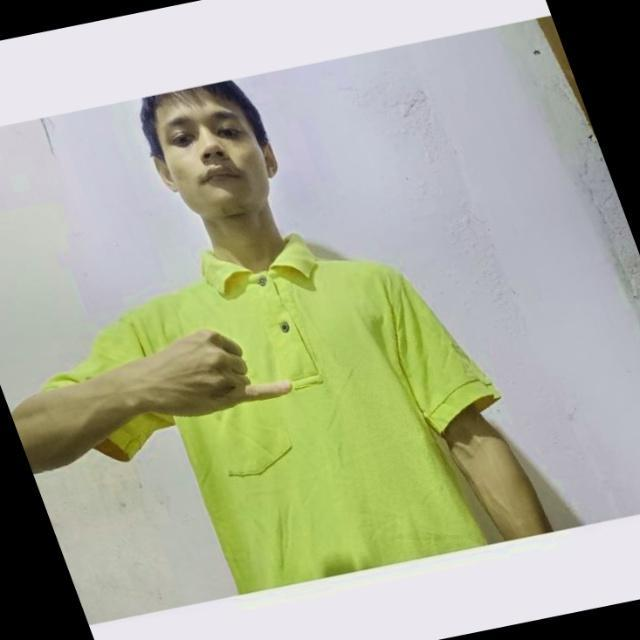J: (137, 316, 307, 432)
